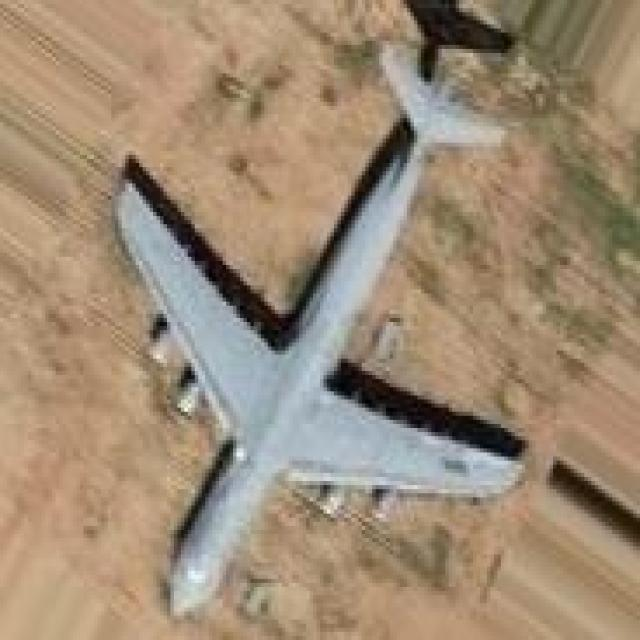C-5_TopDown: (108, 0, 532, 620)
